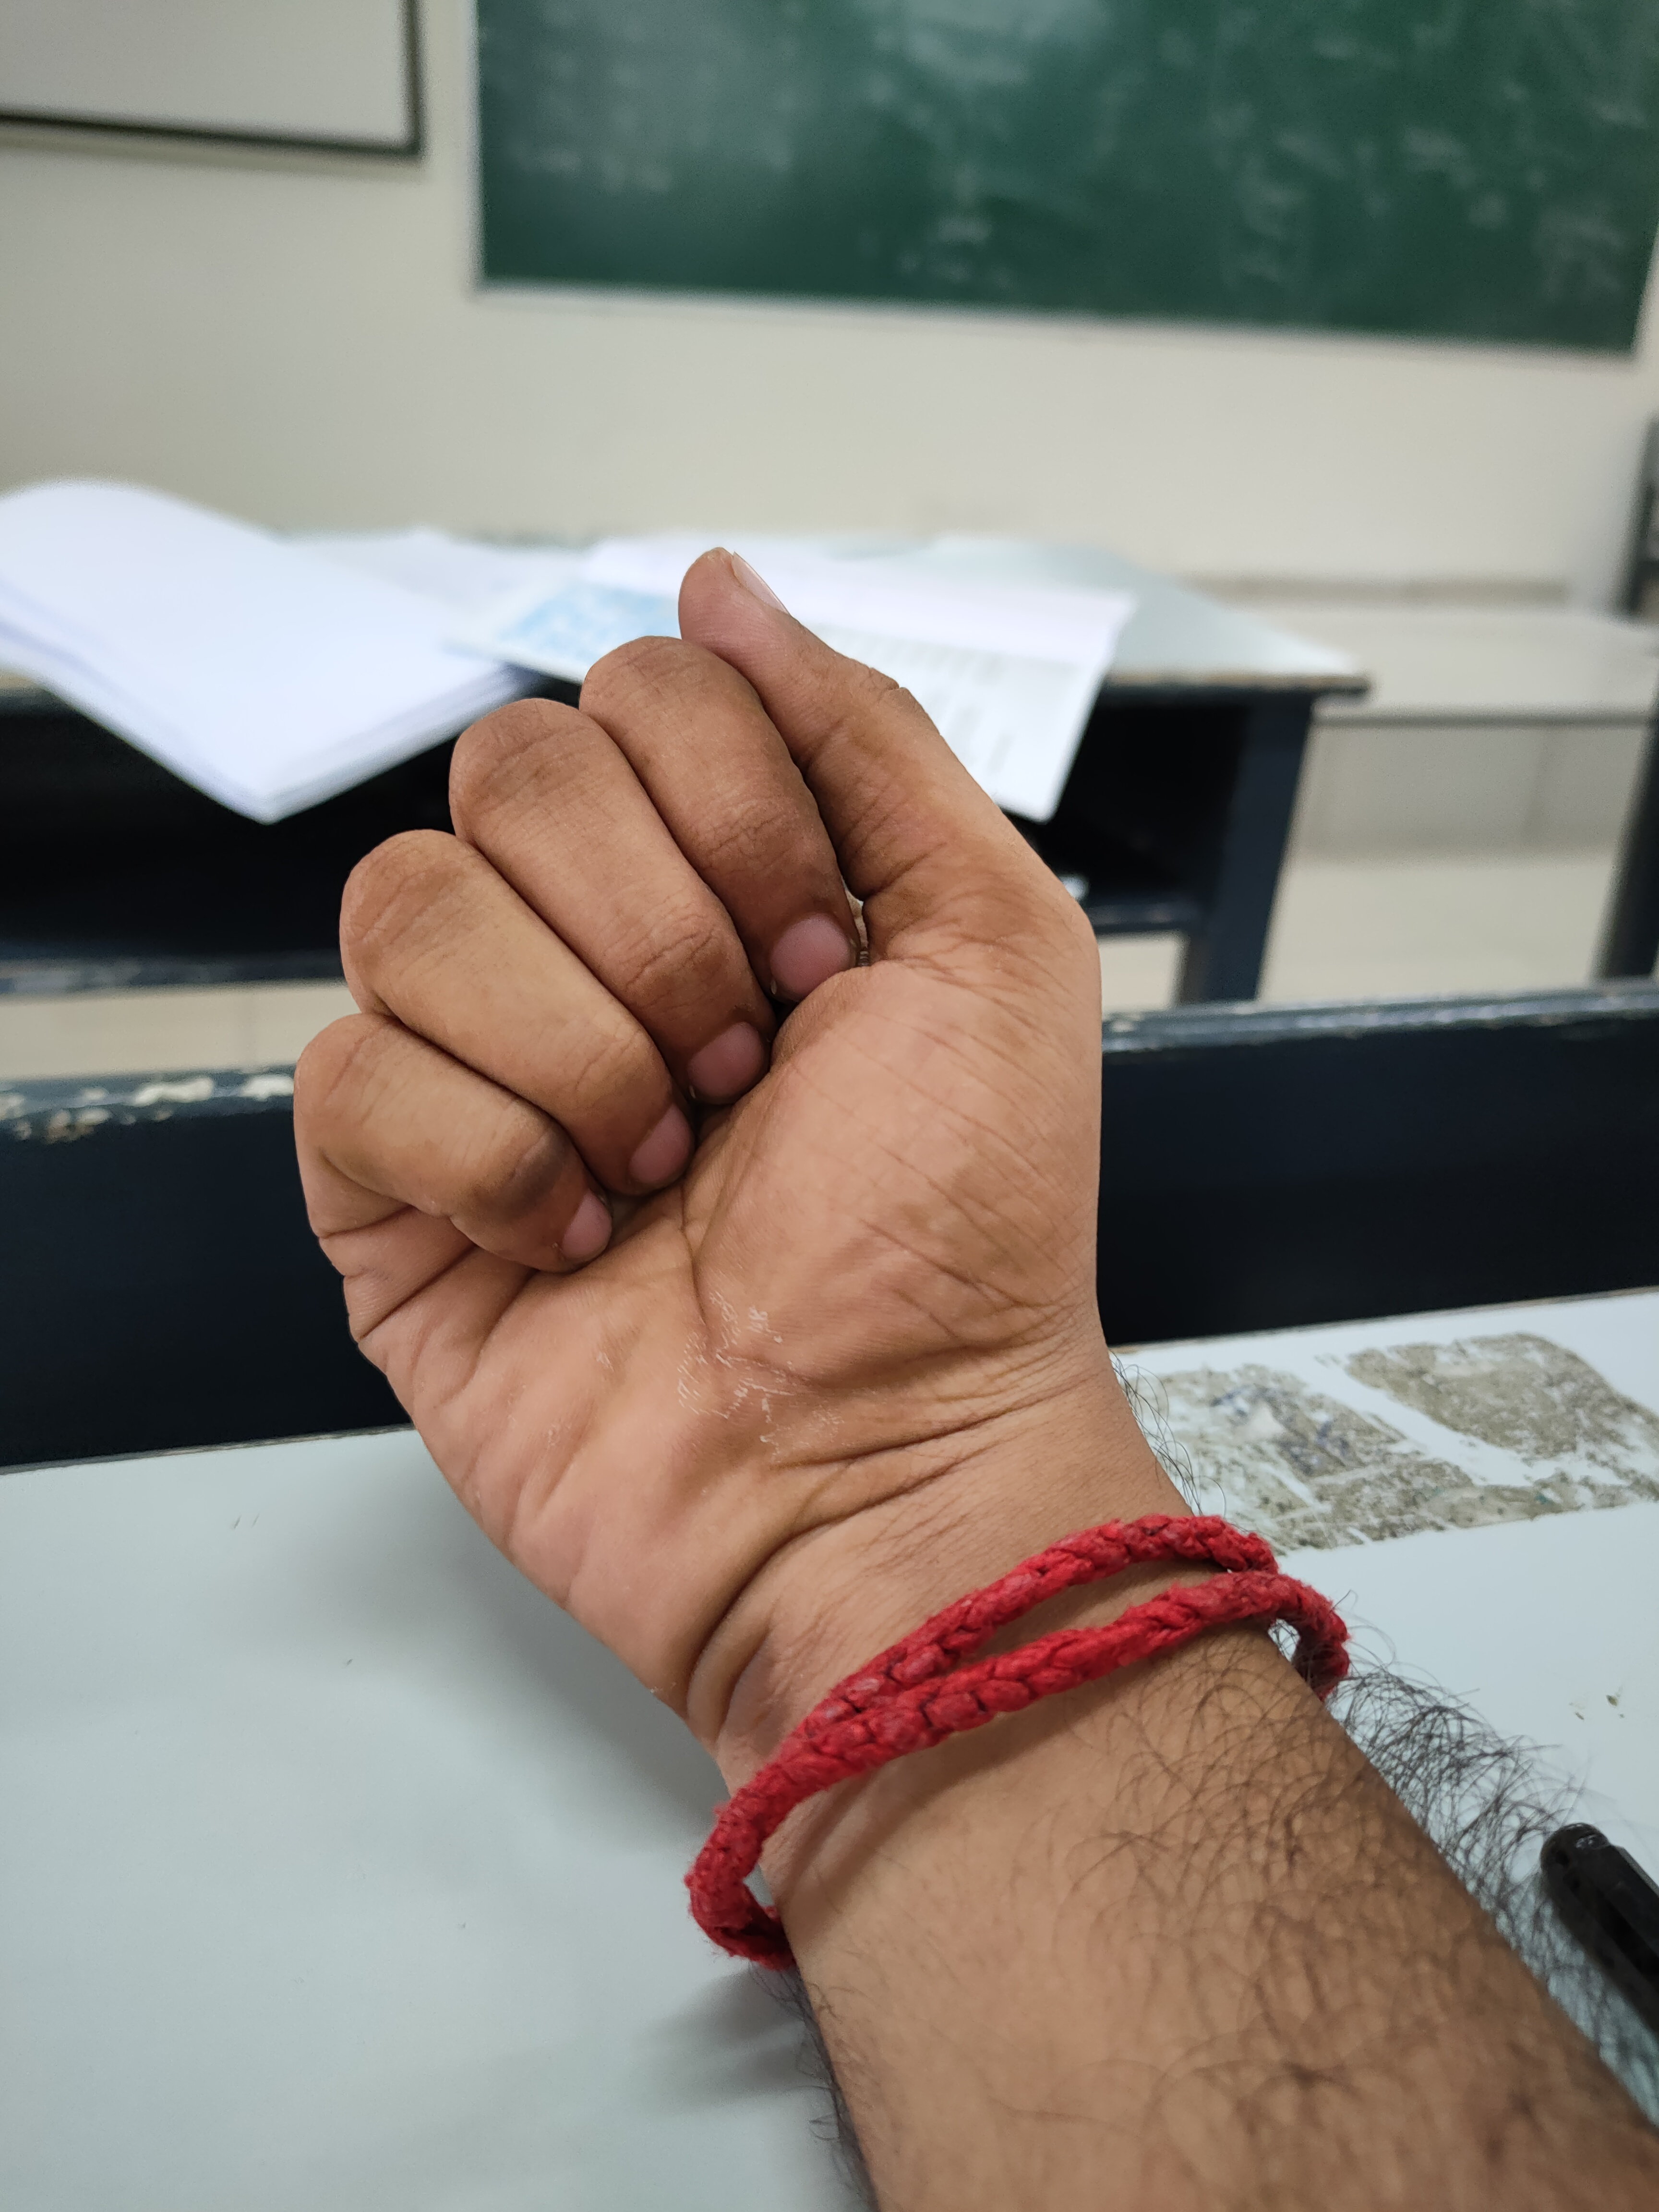A: (145, 474, 1361, 1778)
